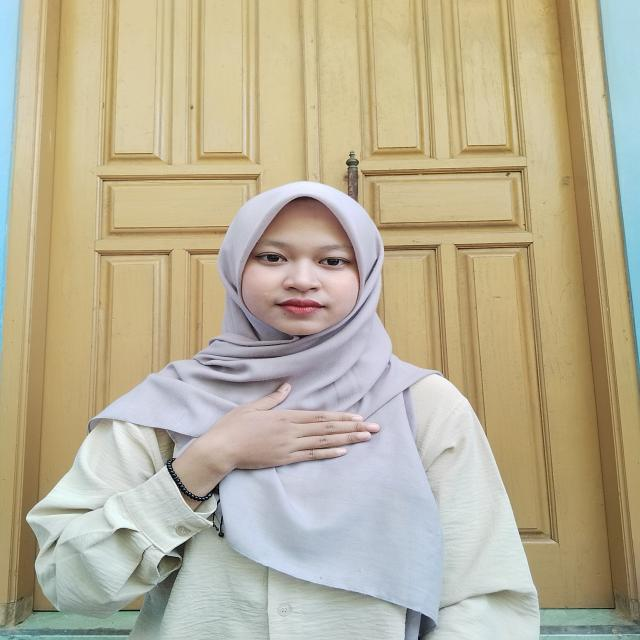tolong: (150, 379, 386, 511)
